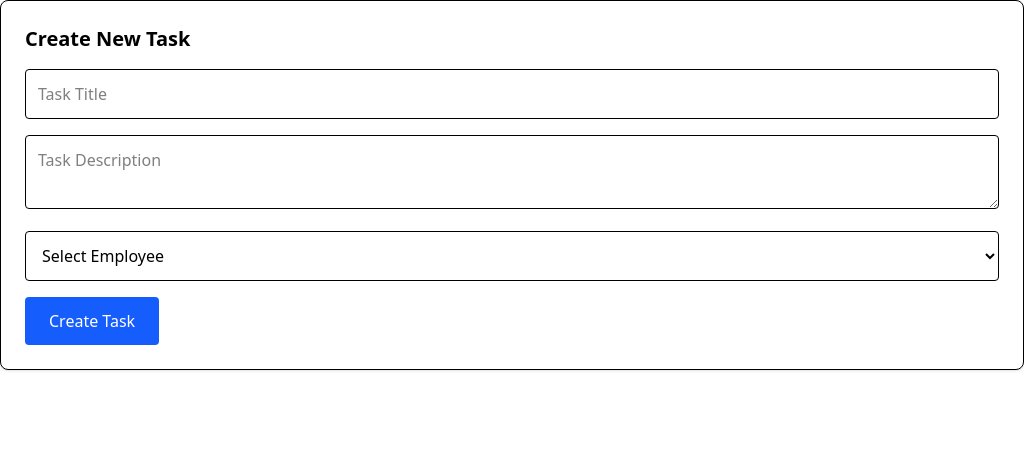
Scenario: shows validation errors for empty form
Click the button "Create Task".
click(92, 321)  # box [25,297,159,345]
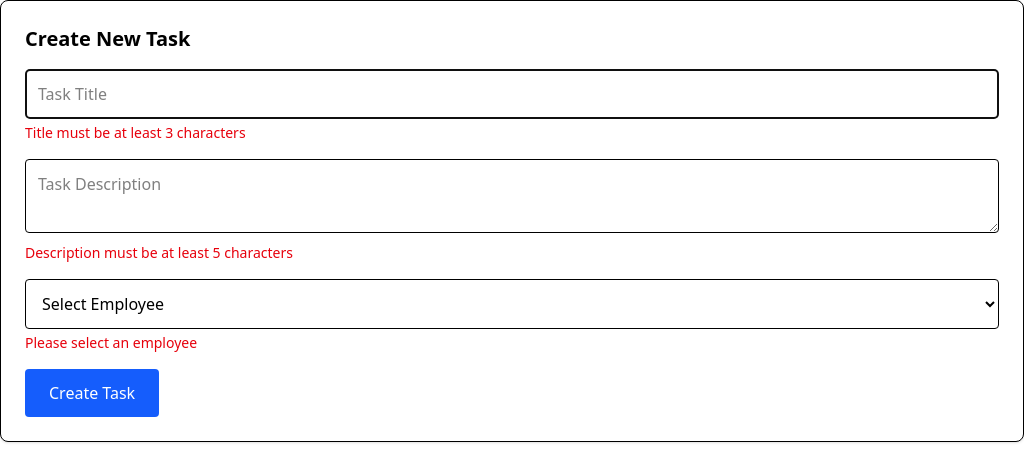
Expected: the text "Title must be at least 3 characters" is shown, [25,123,246,142]
Expected: the text "Description must be at least 5 characters" is shown, [25,243,293,262]
Expected: the text "Please select an employee" is shown, [25,333,197,352]
